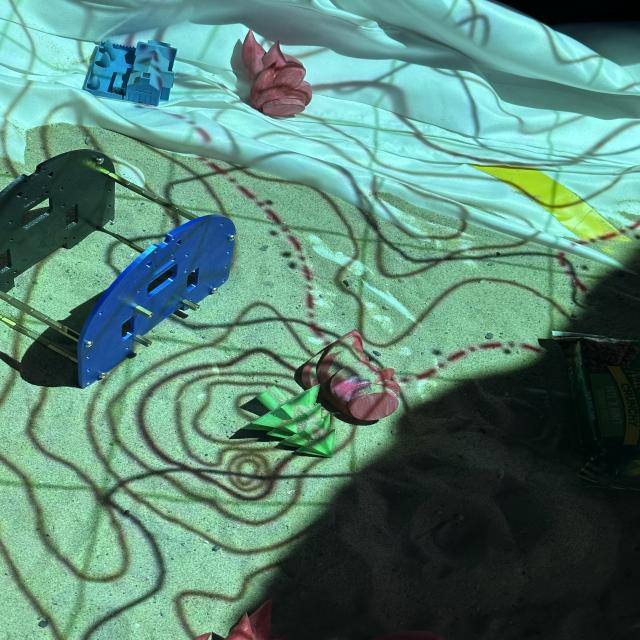fire: (303, 330, 402, 425), (232, 28, 316, 117)
house: (81, 38, 178, 107)
tree: (245, 386, 342, 458)
